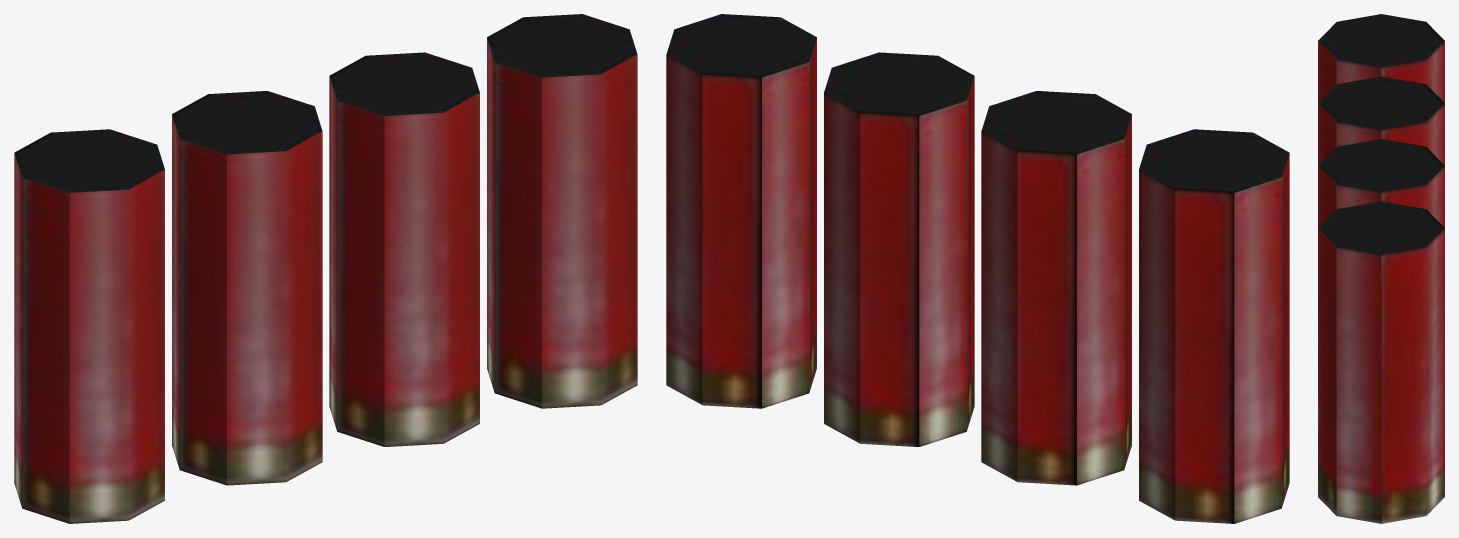
Rendered from i_shells.glb.
3 views of the same model, side by side, from view 1: azimuth 30°, elevation 25°; view 2: azimuth 150°, elevation 25°; view 3: azimuth 270°, elevation 25° (orthographic). The views are drawn at different scales.
Parts seen in each view (by area): view 1: i_shells; view 2: i_shells; view 3: i_shells.
Part boxes in pixels (x1=…): i_shells: x1=14, y1=14, x2=637, y2=523; i_shells: x1=666, y1=14, x2=1289, y2=523; i_shells: x1=1318, y1=14, x2=1444, y2=523.
Size of the model in its own units: 0.1858 by 0.0968 by 0.0413.
Materials: 1 (1 with a texture image).
